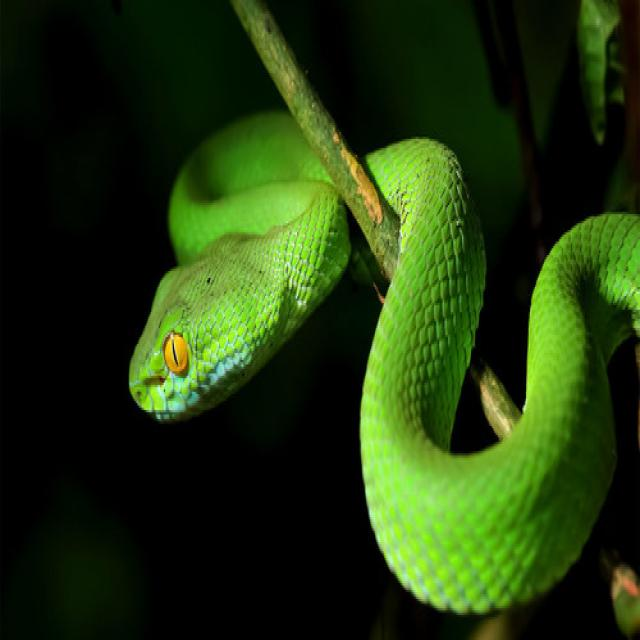Carnivorous: (360, 139, 640, 617), (127, 112, 352, 428)
